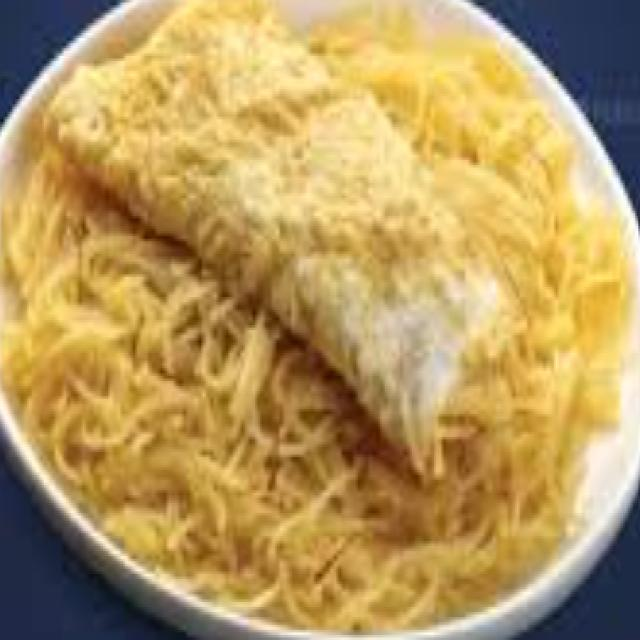Balaleet: (10, 4, 640, 617)
